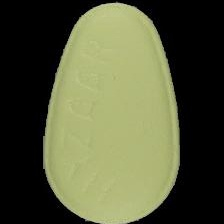43353-926: (0, 0, 224, 224)
